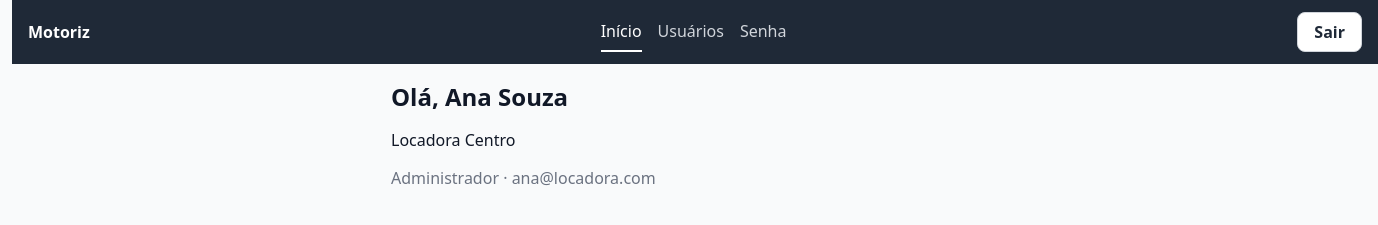
Test: sair › se o servidor falha, a pessoa continua no app e vê o erro
The image size is (1378, 225).
Click the button "Sair" at (1330, 32), box [1297,12,1362,52]
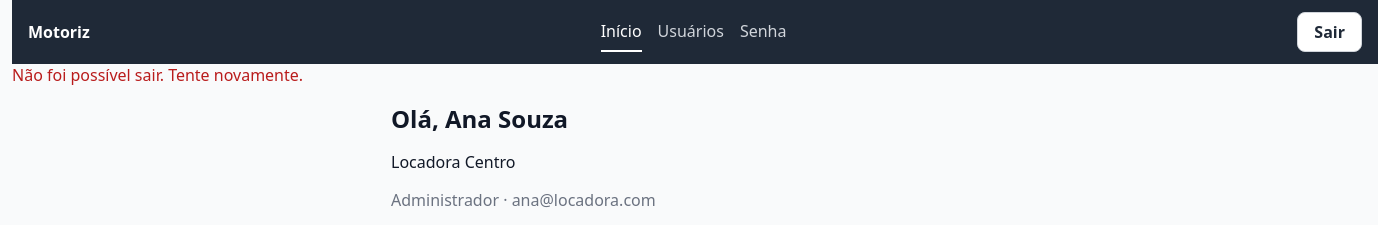
Expected: the heading "Olá, Ana Souza" is shown, [391,102,568,135]
Result: the message reads "Não foi possível sair. Tente novamente." at [12,64,303,86]
